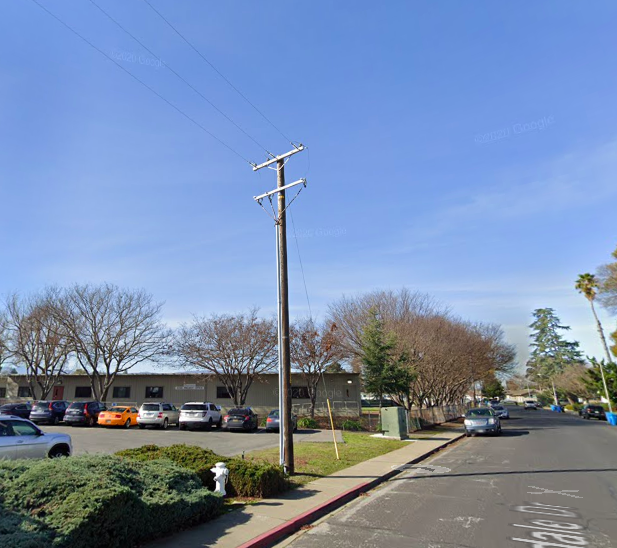utility_pole: (243, 138, 310, 219)
